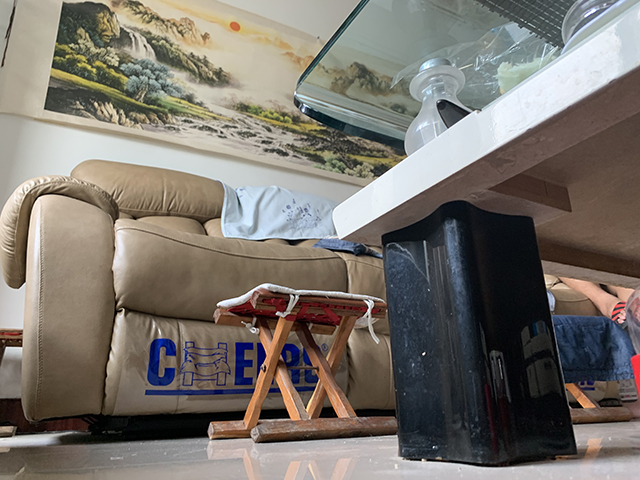sofa: (1, 157, 395, 434)
stool: (206, 281, 398, 444)
table: (292, 1, 640, 469)
